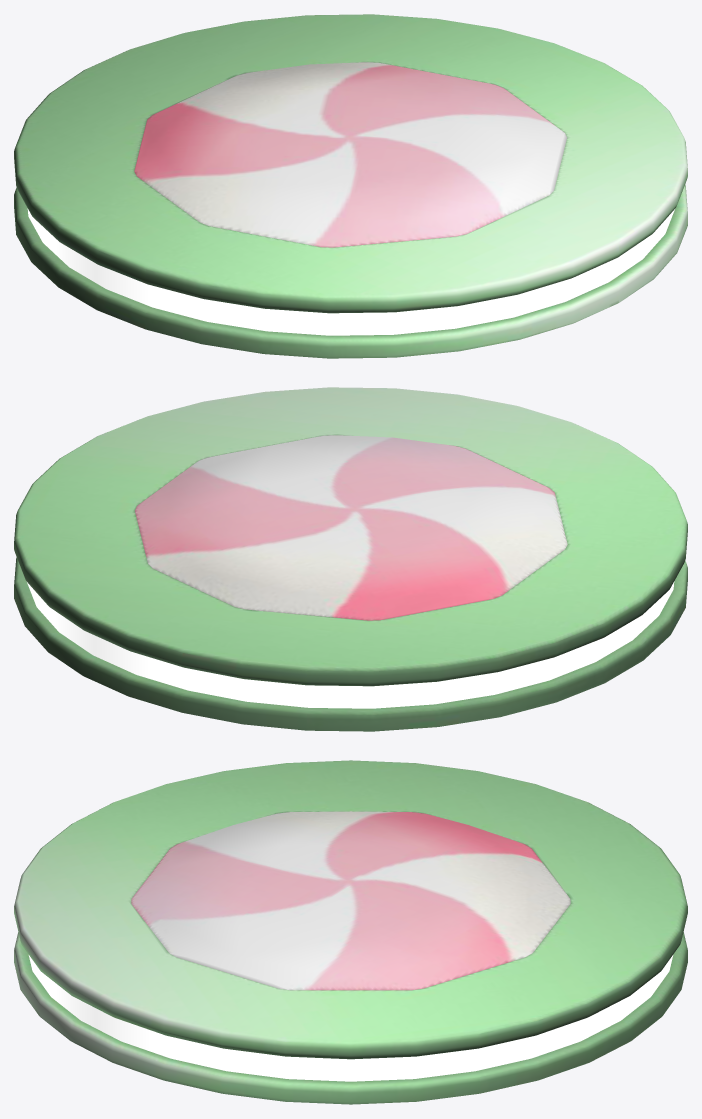
The model's file is candyElevatorB.glb.
3 renders of one model, top to bottom at view 1: azimuth 30°, elevation 25°; view 2: azimuth 150°, elevation 25°; view 3: azimuth 270°, elevation 25°, orthographic.
Parts seen in each view (by area): view 1: candyElevatorB; view 2: candyElevatorB; view 3: candyElevatorB.
Part boxes in pixels (left/top/right/bottom): candyElevatorB: left=14, top=14, right=687, bottom=358; candyElevatorB: left=14, top=387, right=687, bottom=731; candyElevatorB: left=14, top=760, right=687, bottom=1104.
Size of what is drawn, in the model's own units: 2 by 0.3006 by 2.
Materials: 2 (1 with a texture image).
